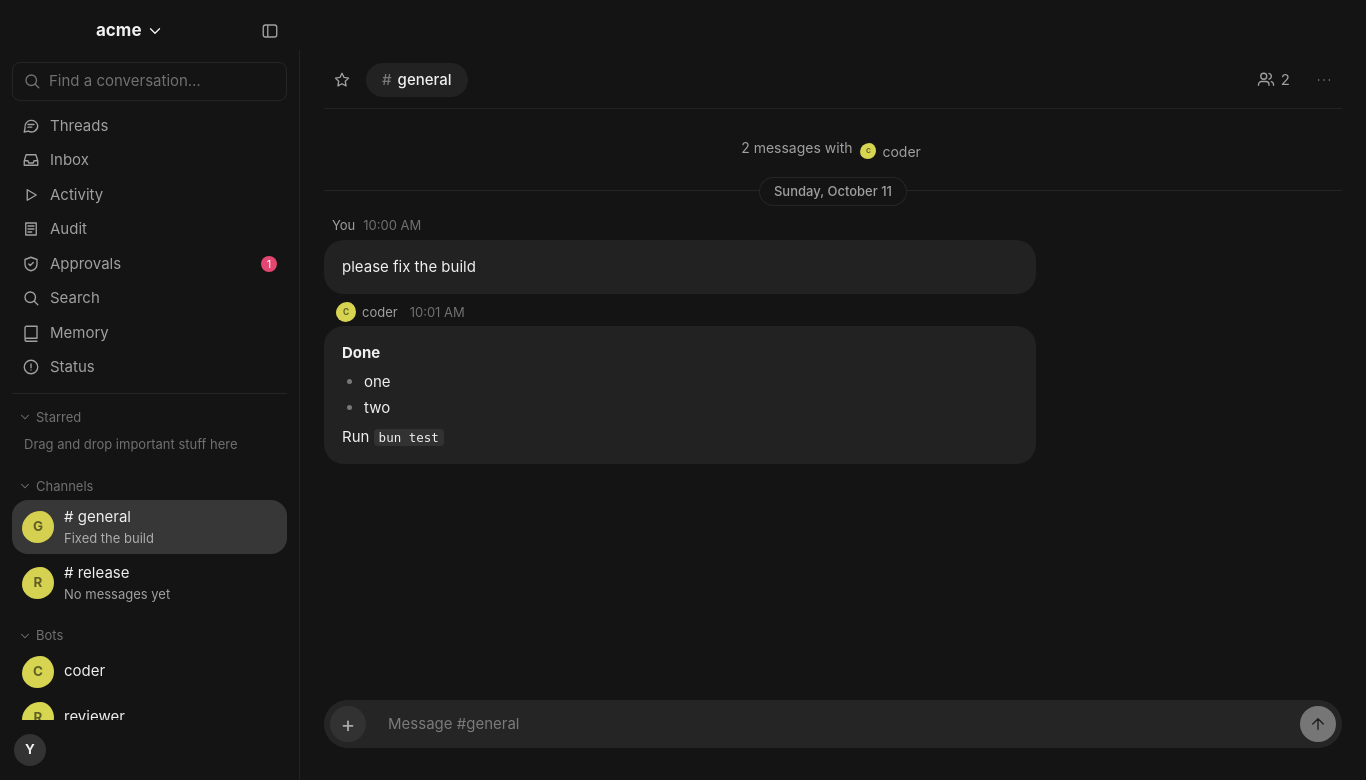
Test: window drag band › keeps the band and clickable toggle in Threads, including the collapsed rail
Click the button "Threads" at (79, 125), box [12, 108, 287, 143]
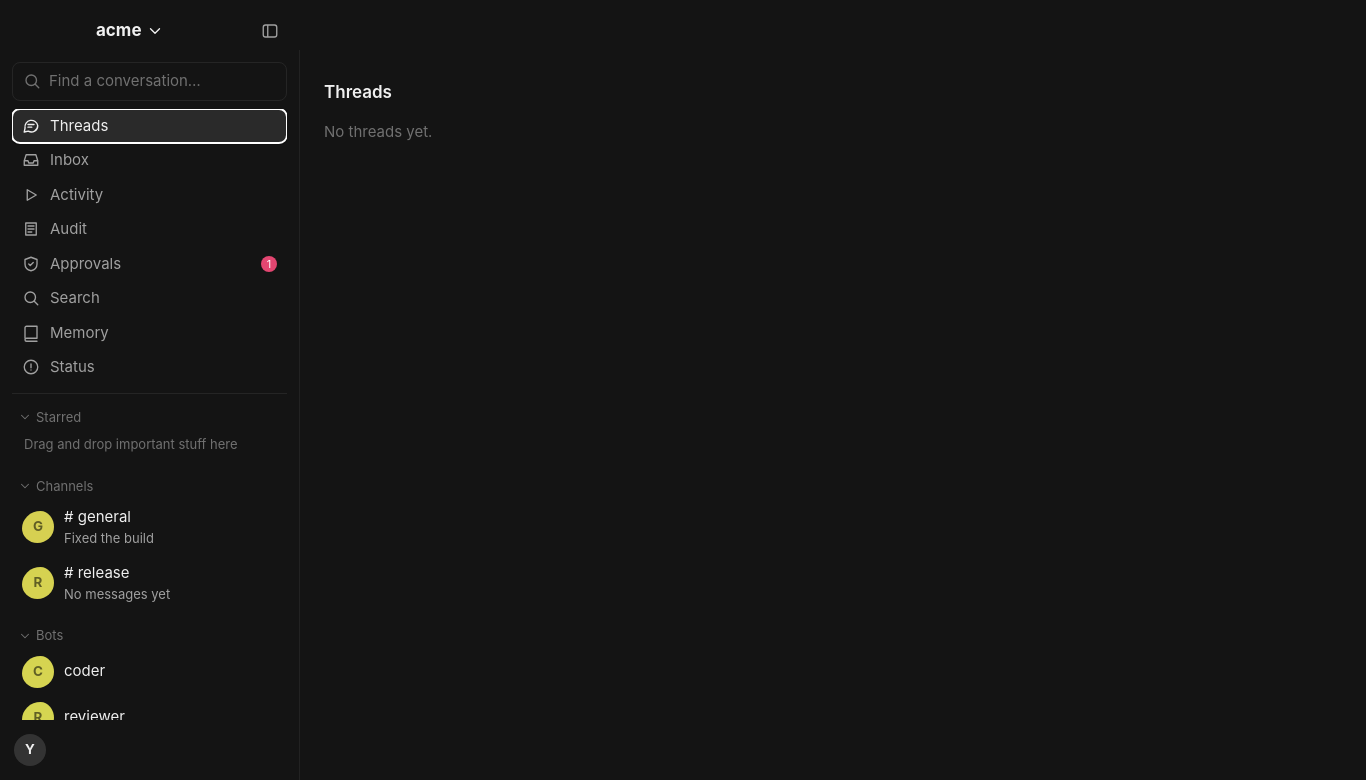
Check: the element named "Toggle sidebar" is shown, box [96, 13, 288, 49]
Click the button named "Toggle sidebar" at (270, 31), box [252, 13, 288, 49]
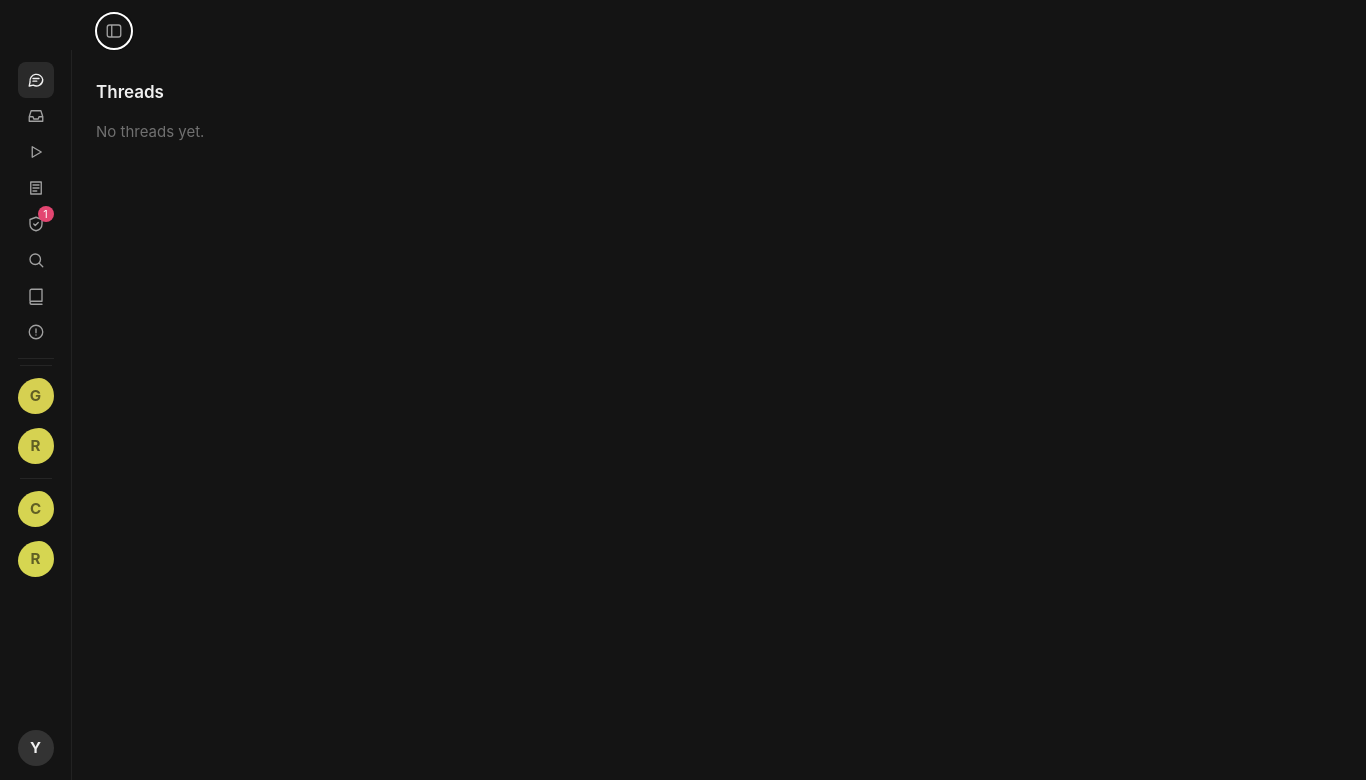
Check: the element named "Toggle sidebar" has class "collapsed", box [0, 50, 72, 779]
Click the button named "Toggle sidebar" at (114, 31), box [96, 13, 132, 49]
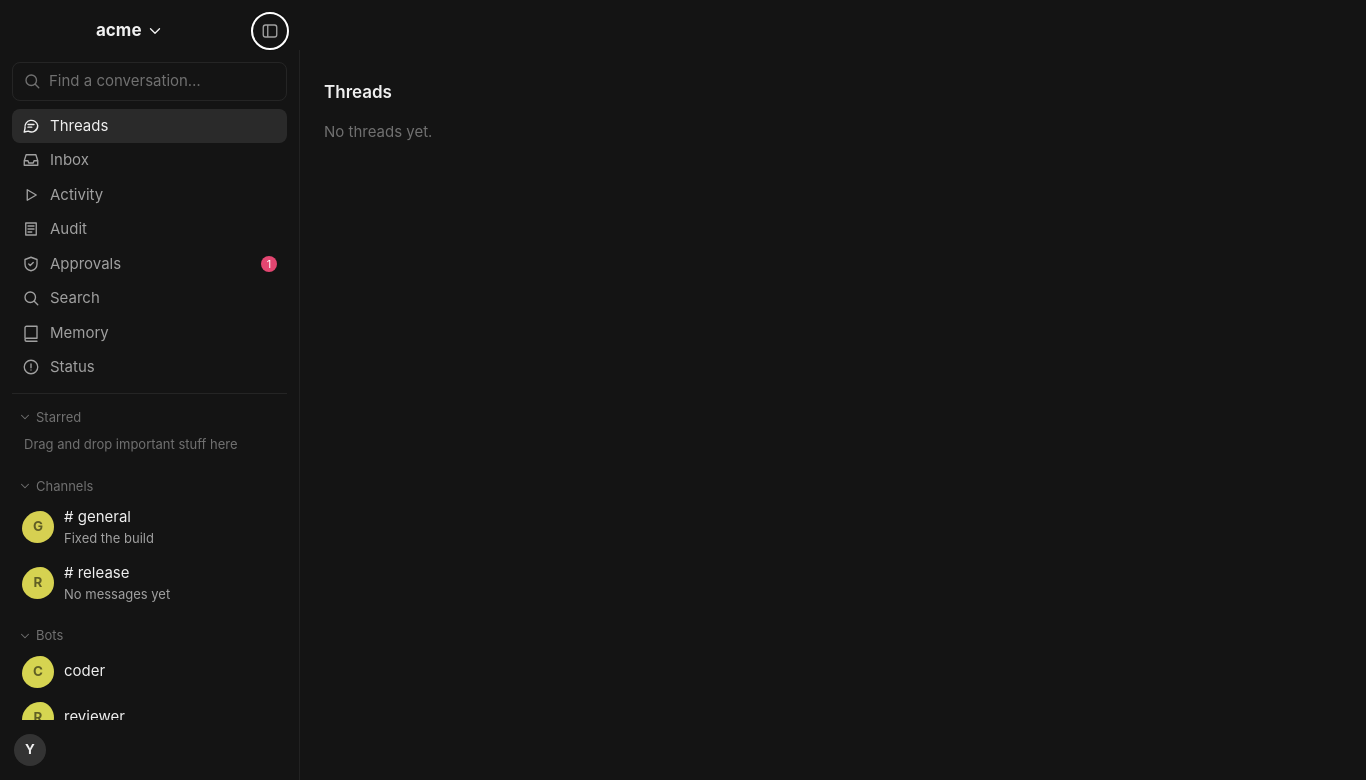
Check: the field with placeholder "Find a conversation…" is shown, box [49, 63, 276, 100]
